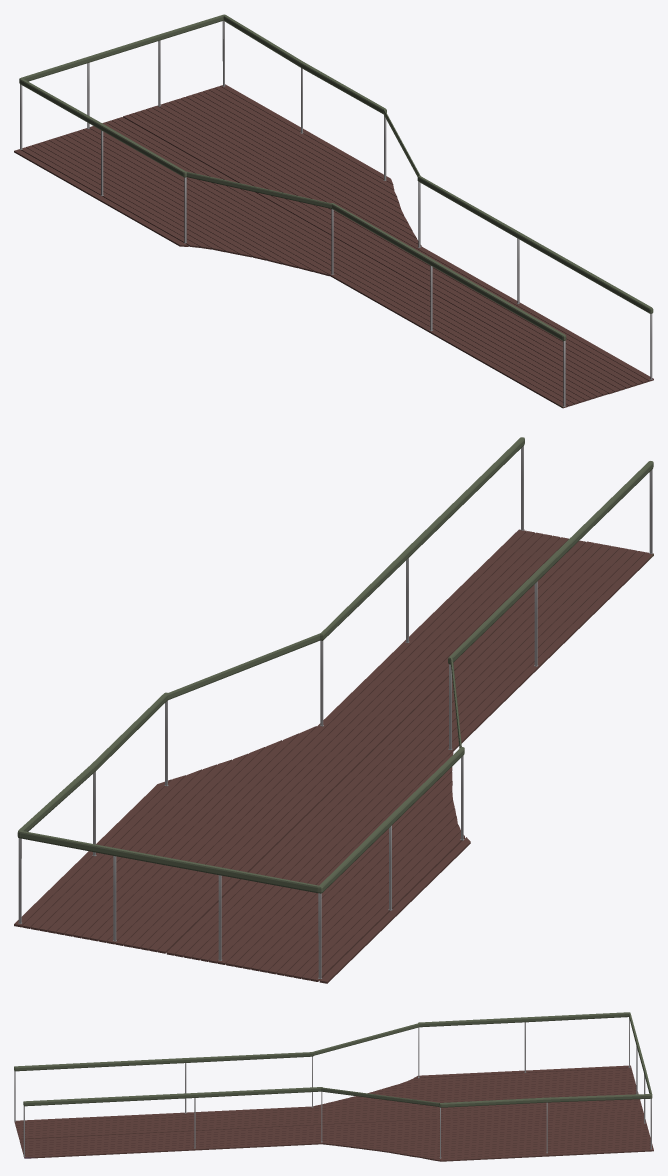
The model's file is WE01_BoardWalk_Seperated 1.fbx.
3 views of the same model, one above another, from view 1: azimuth 30°, elevation 25°; view 2: azimuth 150°, elevation 25°; view 3: azimuth 270°, elevation 25° (orthographic). The views are drawn at different scales.
Visible parts, largest first — view 1: Plank, Banister, Banister2, Banister1; view 2: Plank, Banister2, Banister, Banister1; view 3: Plank, Banister2, Banister, Banister1.
Part boxes in pixels (x1,y1,x2,y2): Plank: [14, 84, 653, 408]; Banister: [19, 77, 566, 406]; Banister2: [222, 14, 653, 379]; Banister1: [21, 15, 223, 128]; Plank: [14, 529, 653, 983]; Banister2: [17, 437, 524, 923]; Banister: [317, 461, 653, 979]; Banister1: [20, 831, 318, 960]; Plank: [14, 1065, 653, 1161]; Banister2: [23, 1087, 652, 1158]; Banister: [14, 1012, 630, 1121]; Banister1: [628, 1013, 651, 1123].
Size of the model in its own units: 10.03 by 2.76 by 28.44.
